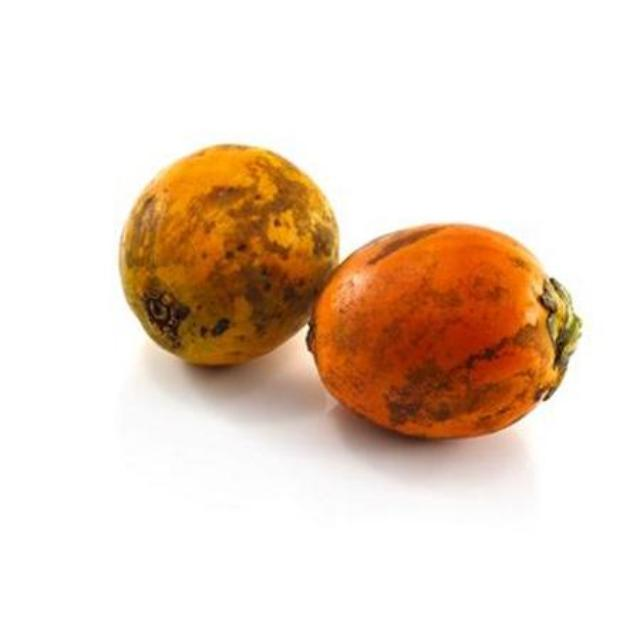good: (307, 224, 583, 441), (118, 144, 341, 369)
